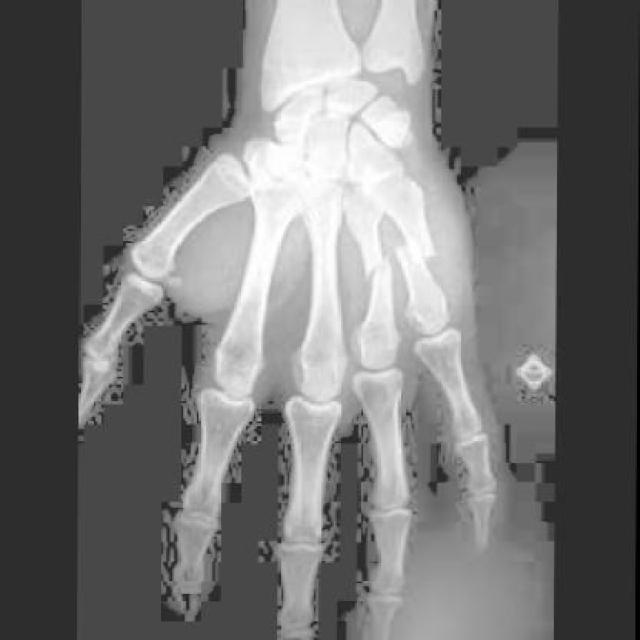Fracture: (394, 229, 442, 280), (360, 259, 403, 287)
